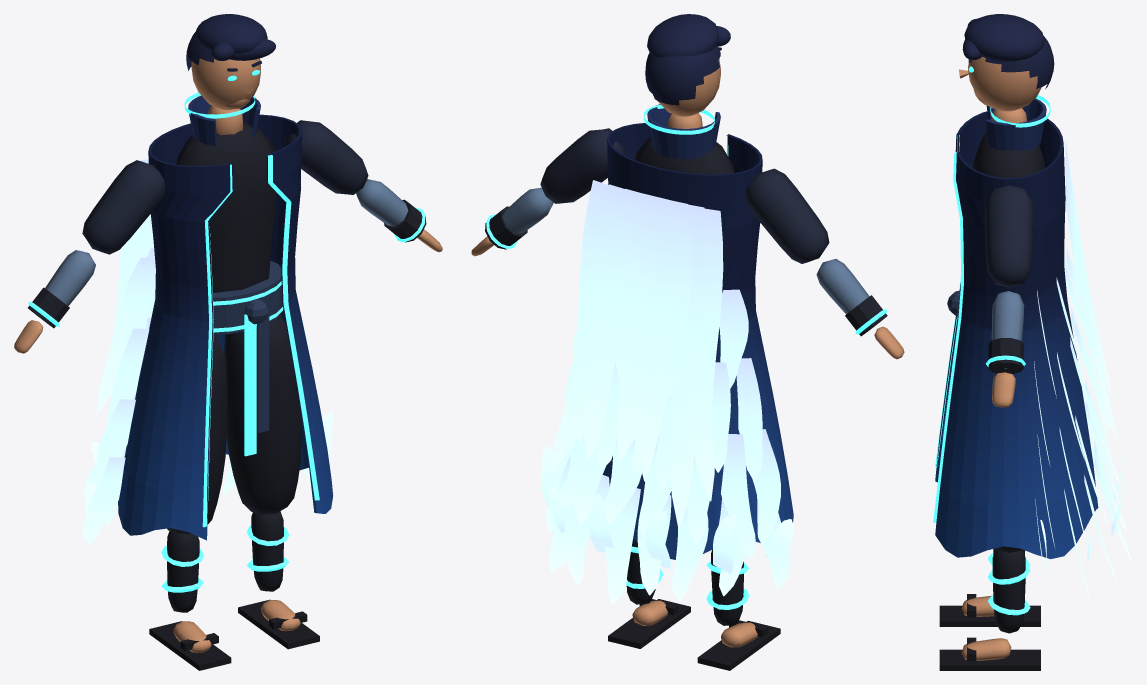
Rendered from fenix_humano.glb.
3 renders of one model, left to right at view 1: azimuth 30°, elevation 25°; view 2: azimuth 150°, elevation 25°; view 3: azimuth 270°, elevation 25°, orthographic.
Visible parts, largest first — view 1: Fenix_humano; view 2: Fenix_humano; view 3: Fenix_humano.
Boxes of the visible parts, x1,y1,x2,y2 form: Fenix_humano: (14, 14, 442, 670); Fenix_humano: (471, 14, 904, 670); Fenix_humano: (933, 14, 1132, 670).
Size of the model in its own units: 1.32 by 1.83 by 0.5313.
